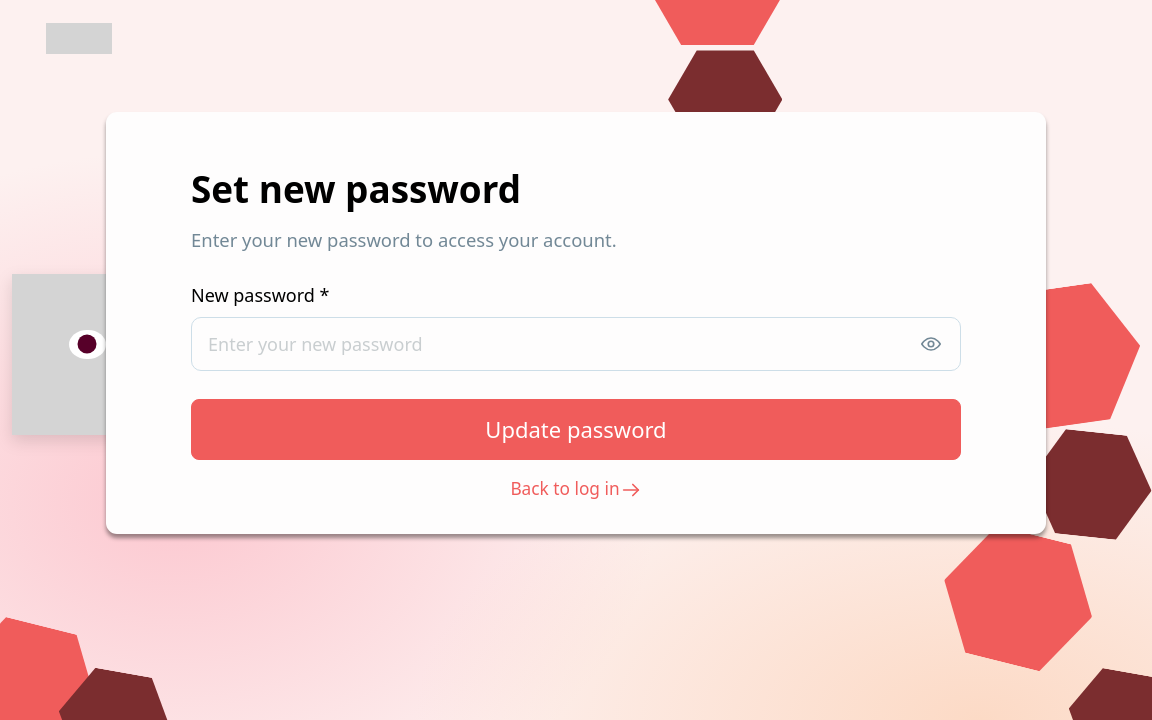
it: UpdatePassword page › displays error banner when updatePassword returns rate limit error
In the password field labelled "New password *": (576, 344) [191,317,961,371], type "newSecurePassword123"
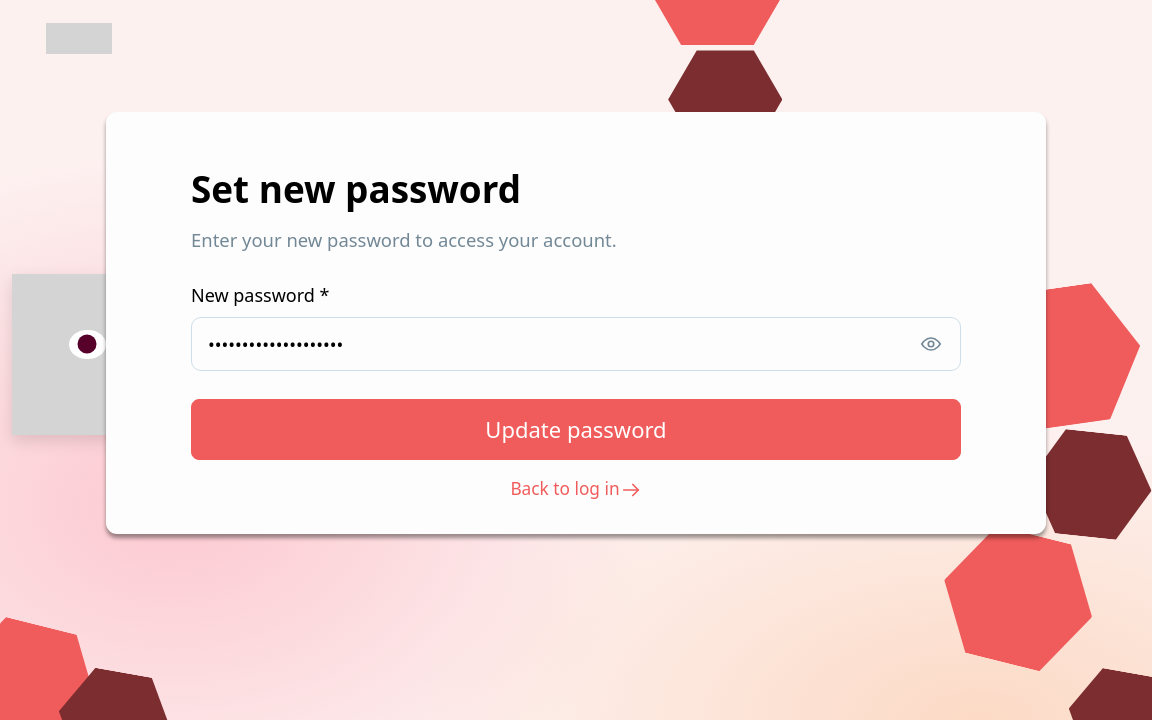
Click the button "Update password": (576, 430) [191,399,961,460]
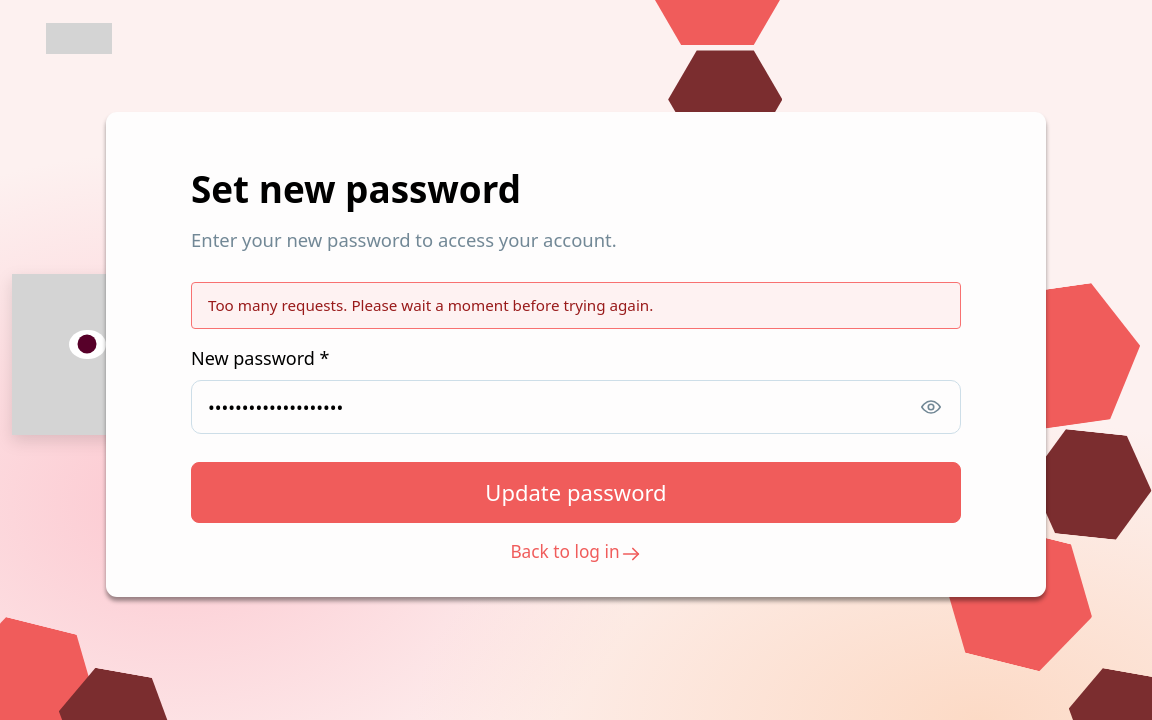
Expected: the text "Too many requests. Please wait a moment before trying again." is shown, [208,295,653,315]
